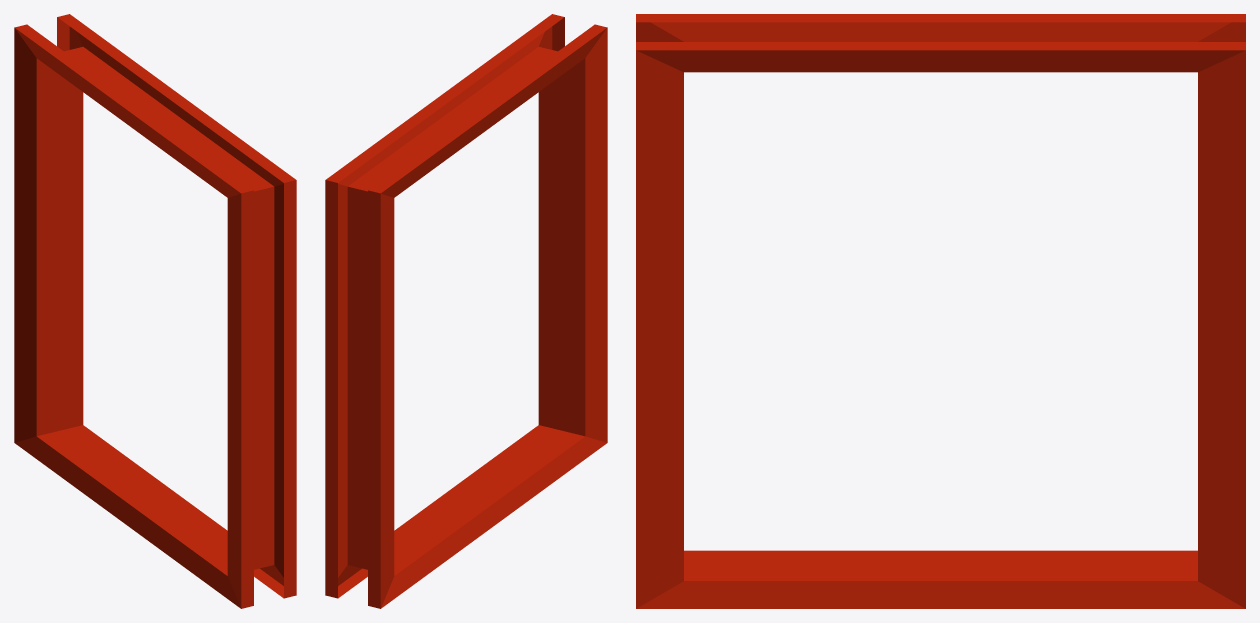
File: new1_bedroom_window_pane_FloorOne.FBX
3 renders of one model, left to right at view 1: azimuth 30°, elevation 25°; view 2: azimuth 150°, elevation 25°; view 3: azimuth 270°, elevation 25°, orthographic. The views are drawn at different scales.
Visible parts, largest first — view 1: new1_bedroom_window_pane_FloorOne; view 2: new1_bedroom_window_pane_FloorOne; view 3: new1_bedroom_window_pane_FloorOne.
Boxes of the visible parts, box(x1,y1,x2,y2) form: new1_bedroom_window_pane_FloorOne: box(14, 14, 296, 608); new1_bedroom_window_pane_FloorOne: box(325, 14, 607, 608); new1_bedroom_window_pane_FloorOne: box(636, 14, 1245, 608).
Size of the model in its own units: 43.21 by 307 by 310.
